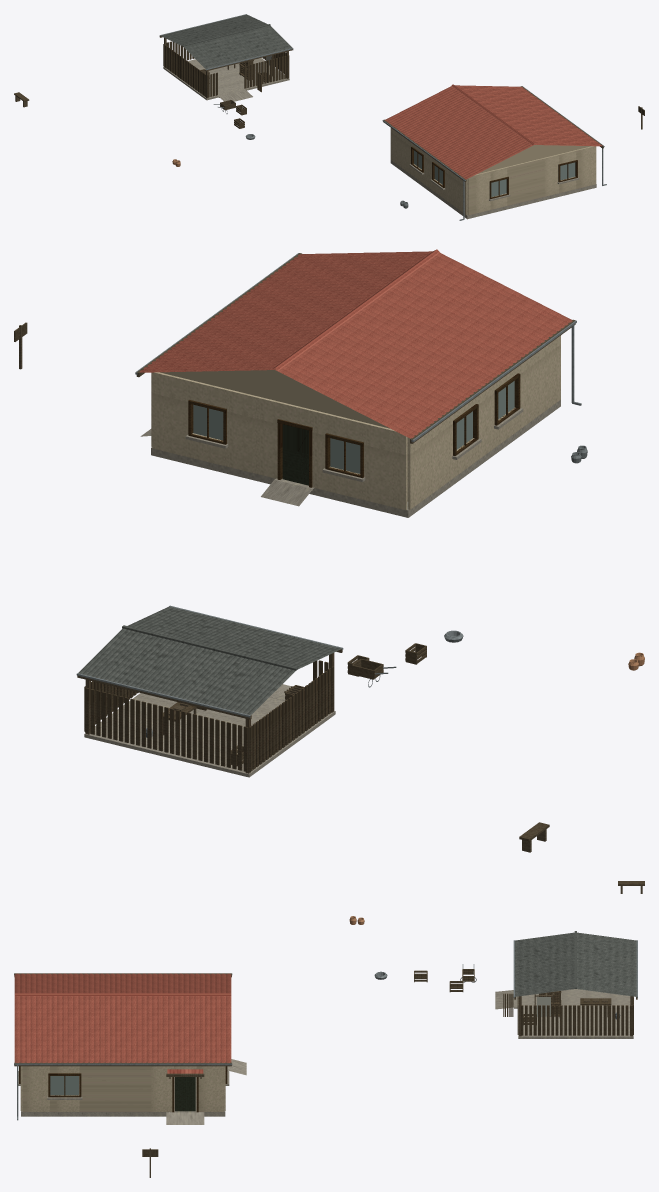
The picture shows the model from 3 angles, top to bottom: view 1: azimuth 30°, elevation 25°; view 2: azimuth 150°, elevation 25°; view 3: azimuth 270°, elevation 25°; orthographic projection. The views are drawn at different scales.
Parts seen in each view (by area): view 1: H37_TELHAS, H37_LATERAIS, H37_ABRIGO_COBERTURA, H37_ABRIGO_RIPAS, H37_FUNDOS, H37_ABRIGO_BASE, H37_OITOES, H37_FUNDACAO, H37_VIDROS_RECUADOS, H37_CAIXILHOS, H37_BEIRAIS, H37_CUMEEIRA; view 2: H37_TELHAS, H37_ABRIGO_COBERTURA, H37_LATERAIS, H37_ABRIGO_RIPAS, H37_FUNDOS, H37_ABRIGO_BASE, H37_OITOES, H37_FUNDACAO, H37_VIDROS_RECUADOS, H37_CAIXILHOS, H37_SERVICO_PORTA_FOLHA, H37_CUMEEIRA (+3 smaller); view 3: H37_TELHAS, H37_FACHADA, H37_ABRIGO_COBERTURA, H37_ABRIGO_BASE, H37_ABRIGO_RIPAS, H37_BEIRAIS, H37_FUNDACAO, H37_PORTA_FOLHA, H37_CALHA, H37_CUMEEIRA, H37_VIDROS_RECUADOS, H37_RAMPA.
Part boxes in pixels (x1,y1,x2,y2): H37_TELHAS: [385, 85, 602, 179]; H37_LATERAIS: [467, 146, 595, 215]; H37_ABRIGO_COBERTURA: [160, 14, 292, 68]; H37_ABRIGO_RIPAS: [163, 41, 289, 97]; H37_FUNDOS: [390, 128, 467, 214]; H37_ABRIGO_BASE: [163, 58, 289, 100]; H37_OITOES: [478, 145, 591, 173]; H37_FUNDACAO: [390, 160, 596, 219]; H37_VIDROS_RECUADOS: [414, 150, 575, 196]; H37_CAIXILHOS: [411, 146, 577, 199]; H37_BEIRAIS: [383, 86, 603, 181]; H37_CUMEEIRA: [451, 84, 534, 145]; H37_TELHAS: [140, 251, 572, 438]; H37_ABRIGO_COBERTURA: [78, 606, 341, 715]; H37_LATERAIS: [152, 372, 407, 510]; H37_ABRIGO_RIPAS: [84, 660, 334, 771]; H37_FUNDOS: [407, 335, 560, 509]; H37_ABRIGO_BASE: [84, 693, 335, 777]; H37_OITOES: [160, 370, 389, 428]; H37_FUNDACAO: [151, 400, 560, 517]; H37_VIDROS_RECUADOS: [193, 381, 514, 473]; H37_CAIXILHOS: [188, 373, 520, 478]; H37_SERVICO_PORTA_FOLHA: [282, 424, 308, 485]; H37_CUMEEIRA: [273, 249, 439, 370]; H37_TELHAS: [14, 973, 231, 1062]; H37_FACHADA: [22, 1066, 223, 1111]; H37_ABRIGO_COBERTURA: [515, 932, 636, 996]; H37_ABRIGO_BASE: [518, 989, 633, 1038]; H37_ABRIGO_RIPAS: [517, 996, 633, 1035]; H37_BEIRAIS: [14, 973, 231, 1066]; H37_FUNDACAO: [21, 1076, 225, 1116]; H37_PORTA_FOLHA: [175, 1077, 195, 1111]; H37_CALHA: [14, 973, 232, 1065]; H37_CUMEEIRA: [15, 993, 231, 995]; H37_VIDROS_RECUADOS: [50, 1076, 78, 1095]; H37_RAMPA: [166, 1113, 204, 1124].
Size of the model in its own units: 34.14 by 4.53 by 31.73.
13 materials, 9 textured.
